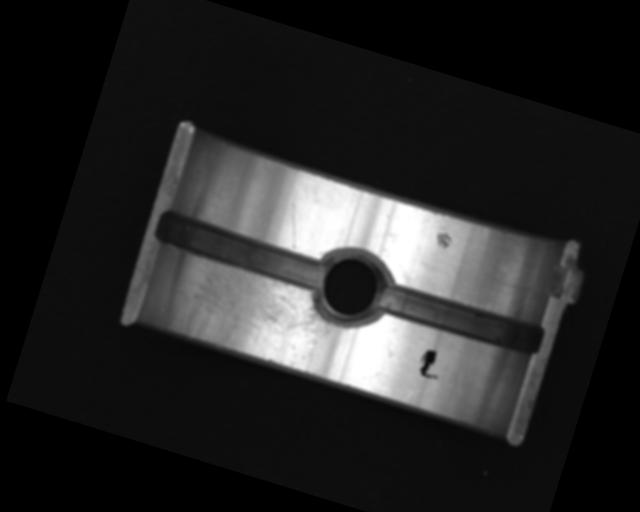blot: (415, 346, 446, 381)
bruise: (432, 230, 455, 251)
gap: (151, 206, 330, 295), (374, 278, 545, 360)
hole: (306, 242, 396, 336)
nick: (279, 203, 308, 250)
scratch: (160, 253, 342, 378)
